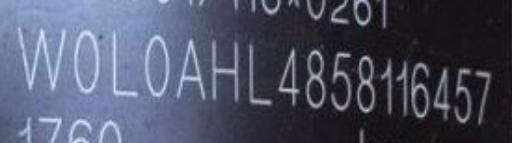letter: (14, 22, 66, 95), (104, 28, 140, 103), (172, 33, 208, 104), (70, 26, 102, 101), (208, 37, 242, 106), (140, 31, 172, 104), (244, 41, 274, 108), (326, 46, 354, 113), (274, 44, 302, 109), (301, 46, 327, 111), (353, 51, 379, 114), (407, 59, 433, 120), (430, 63, 454, 122), (450, 62, 472, 125), (378, 55, 396, 122), (391, 57, 411, 116), (473, 66, 493, 125)
